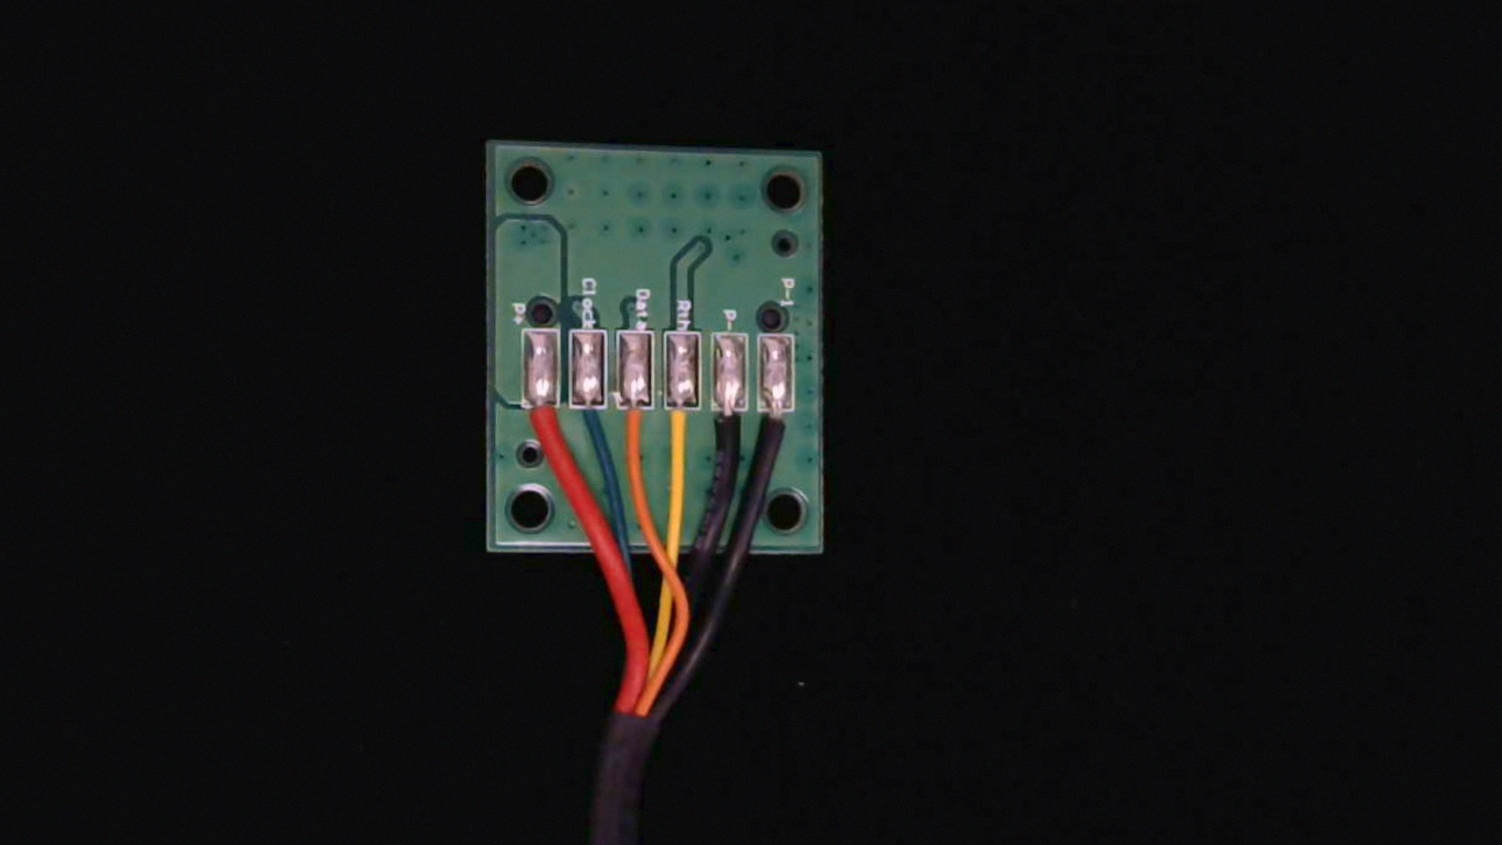Black: (711, 383, 753, 473)
Black1: (759, 387, 801, 469)
Green: (570, 383, 610, 457)
Orange: (618, 385, 658, 474)
Red: (521, 384, 563, 470)
Yellow: (659, 385, 701, 476)
